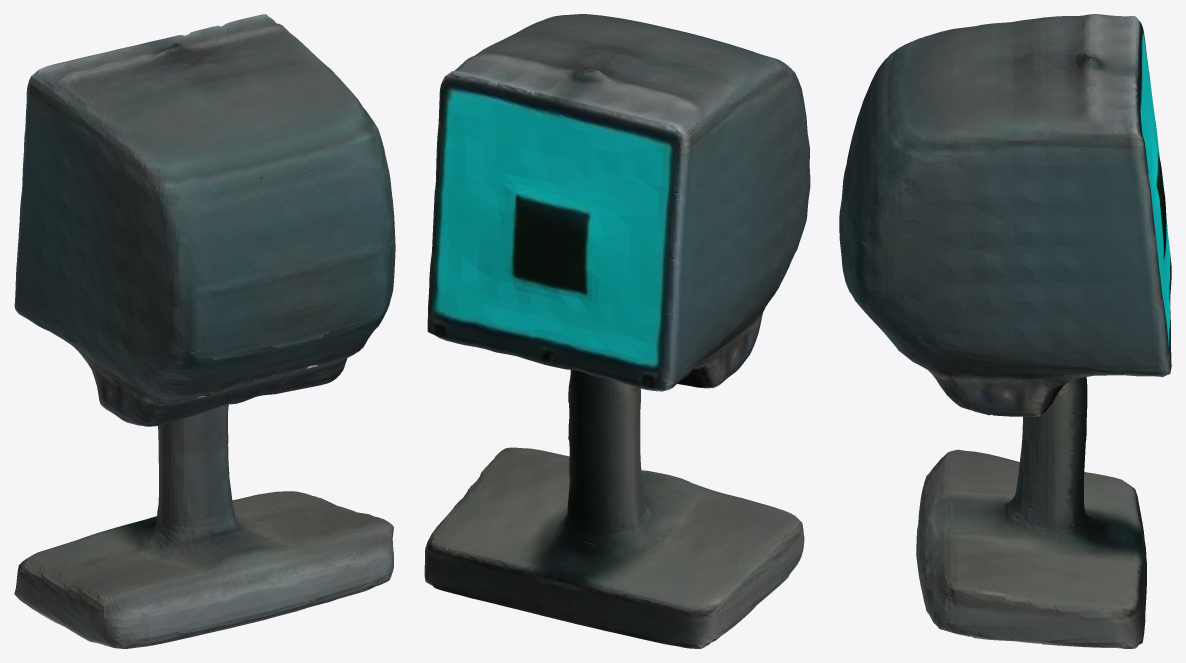
The model's file is uplink_node.glb.
3 renders of one model, left to right at view 1: azimuth 30°, elevation 25°; view 2: azimuth 150°, elevation 25°; view 3: azimuth 270°, elevation 25°, orthographic.
Visible parts, largest first — view 1: geometry_0; view 2: geometry_0; view 3: geometry_0.
Part boxes in pixels (<box>): geometry_0: <box>14,14,395,648</box>; geometry_0: <box>424,14,810,648</box>; geometry_0: <box>839,14,1171,648</box>.
Bounding box in the file's own units: 0.5861 × 1 × 0.5705.
1 material, 1 textured.
